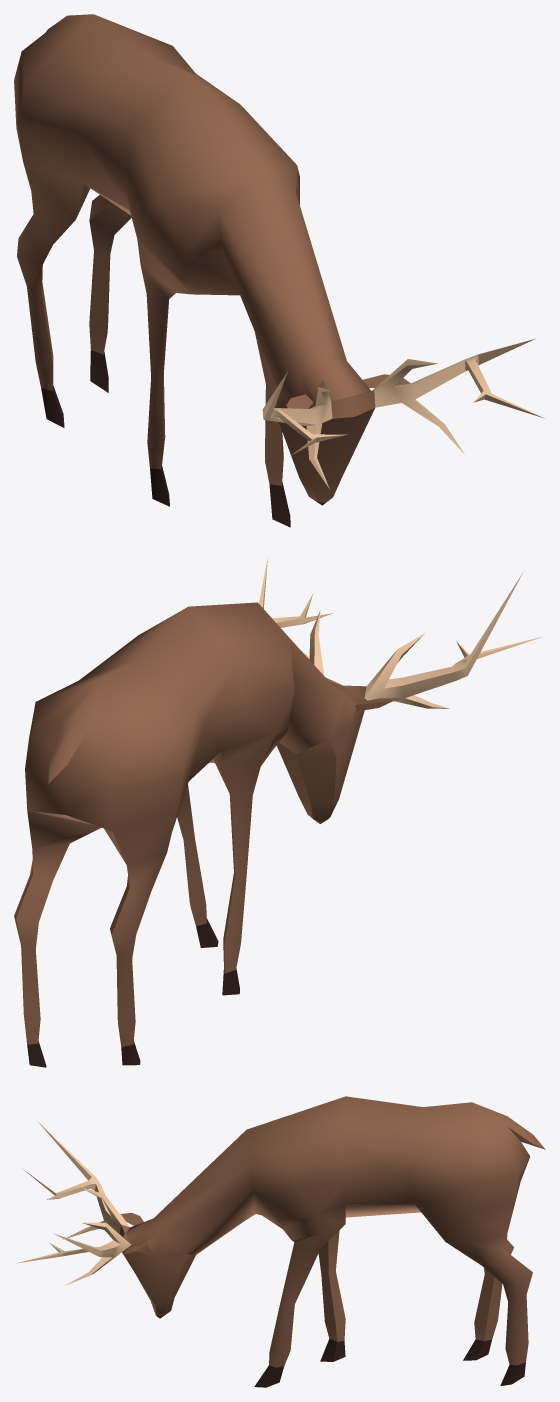
3 renders of one model, top to bottom at view 1: azimuth 30°, elevation 25°; view 2: azimuth 150°, elevation 25°; view 3: azimuth 270°, elevation 25°, orthographic. The views are drawn at different scales.
Parts seen in each view (by area): view 1: Deer-ver3_Texture-base_0; view 2: Deer-ver3_Texture-base_0; view 3: Deer-ver3_Texture-base_0.
Boxes of the visible parts, bbox=[...] form: Deer-ver3_Texture-base_0: bbox=[14, 14, 544, 527]; Deer-ver3_Texture-base_0: bbox=[14, 557, 543, 1067]; Deer-ver3_Texture-base_0: bbox=[15, 1096, 545, 1387].
Size of the model in its own units: 0.8856 by 1.29 by 2.23.
1 material, 1 textured.
